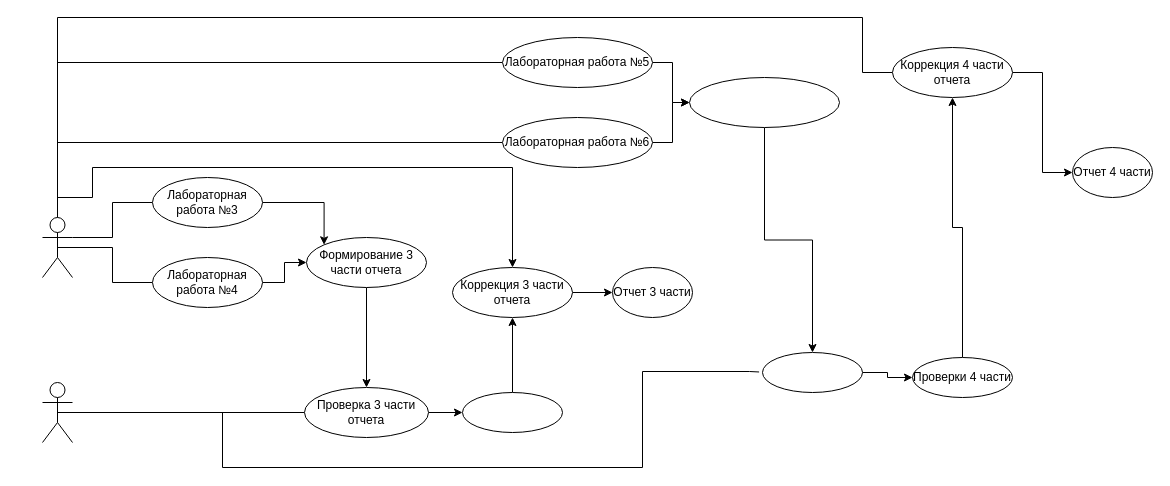
The diagram is 1170 pixels wide and 486 high, and some of its shapes have lost their labels. Each missing label, with the centre of its shape:
Правки 3 части: [512,412]
Правки 4 части: [812,372]
Проверяющий: [57,412]
Разработчик: [57,247]
Формирование 4 части отчета: [764,102]
